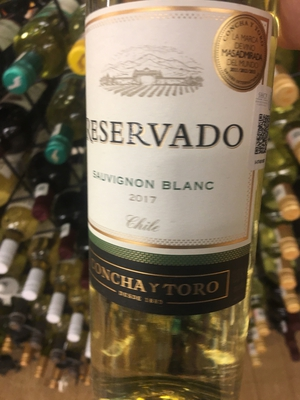reservado sauvignon blanc: (84, 4, 279, 381)
